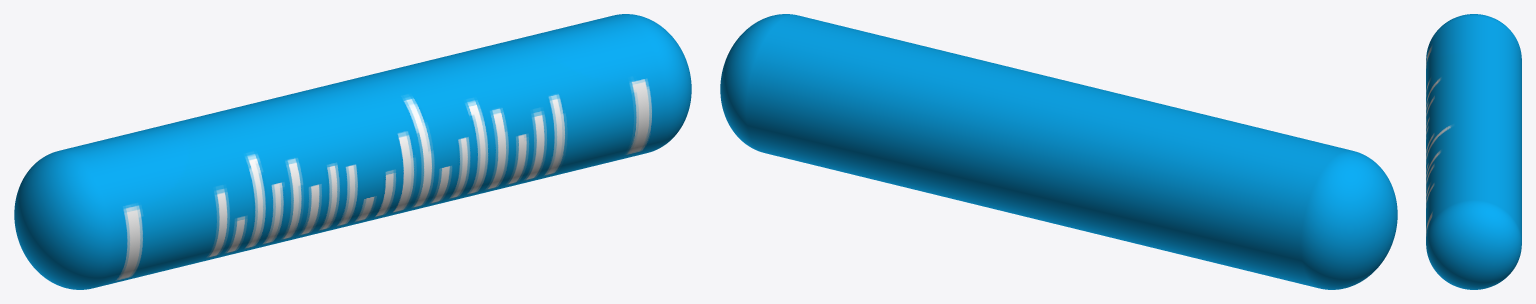
The model's file is audio_blue.glb.
3 views of the same model, side by side, from view 1: azimuth 30°, elevation 25°; view 2: azimuth 150°, elevation 25°; view 3: azimuth 270°, elevation 25° (orthographic). The views are drawn at different scales.
Parts seen in each view (by area): view 1: mesh_id46; view 2: mesh_id46; view 3: mesh_id46.
Boxes of the visible parts, x1,y1,x2,y2 form: mesh_id46: (14,14,691,289); mesh_id46: (720,14,1397,289); mesh_id46: (1426,14,1521,289).
Bounding box in the file's own units: 0.1817 × 0.0341 × 0.0341.
Materials: 1 (1 with a texture image).
